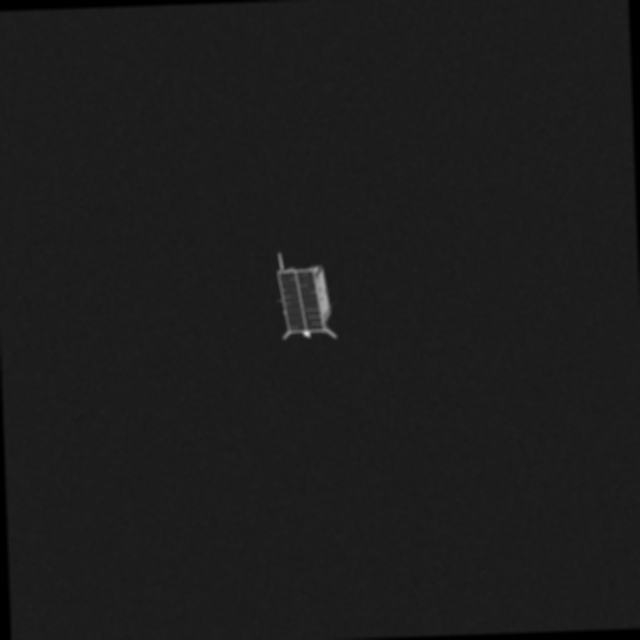medium_debris: (264, 250, 368, 368)
